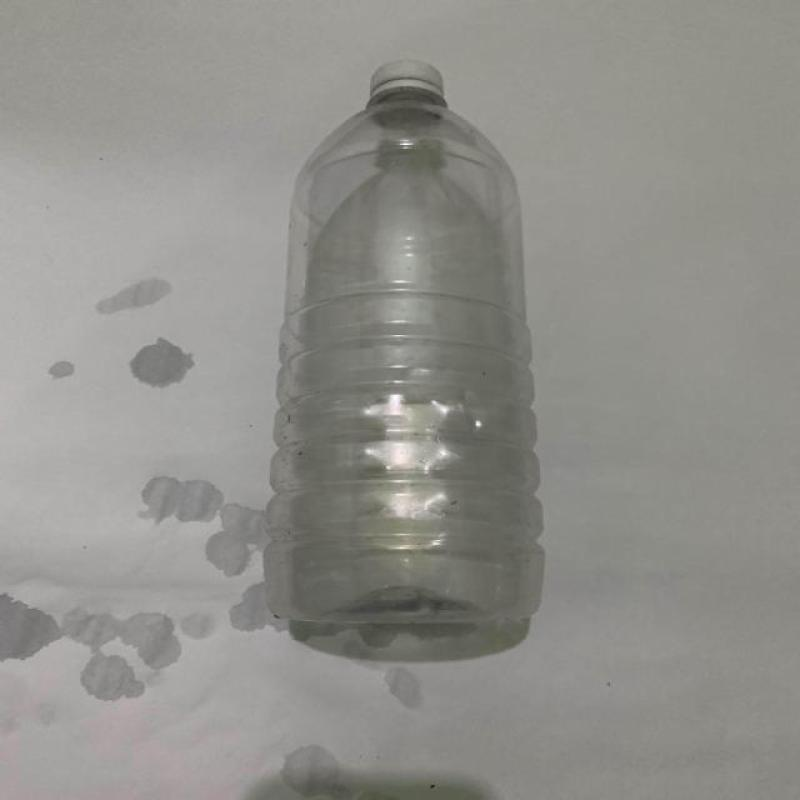botella: (261, 59, 550, 635)
